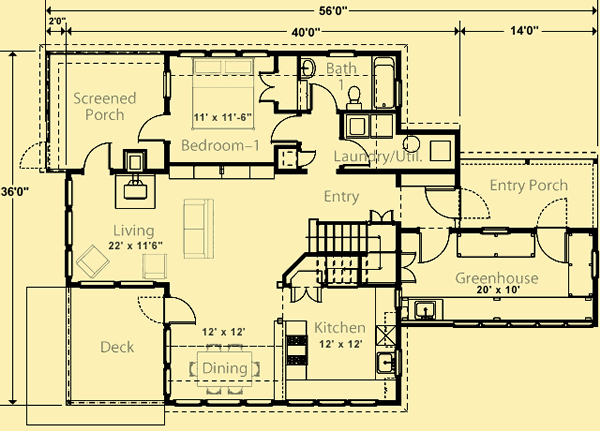bed: (189, 58, 256, 130)
dining_table: (190, 343, 263, 395)
door: (415, 228, 451, 264), (79, 139, 112, 175), (424, 186, 460, 219), (537, 230, 569, 265), (338, 138, 372, 169), (307, 81, 338, 114), (270, 114, 301, 146), (136, 113, 168, 143), (163, 298, 198, 325), (257, 70, 277, 105), (290, 286, 323, 306), (401, 251, 420, 284), (297, 148, 320, 168)
large_sink: (344, 80, 366, 114)
large_sofa: (181, 196, 217, 260)
sink: (376, 349, 397, 376), (412, 299, 437, 320)
small_sofa: (77, 245, 110, 279), (139, 252, 170, 280)
stairs: (305, 217, 397, 288)
tub: (370, 51, 397, 110)
window: (447, 317, 593, 330), (63, 178, 75, 276), (177, 47, 267, 59), (170, 398, 274, 408), (283, 396, 377, 407), (161, 326, 174, 394), (163, 70, 174, 98)
